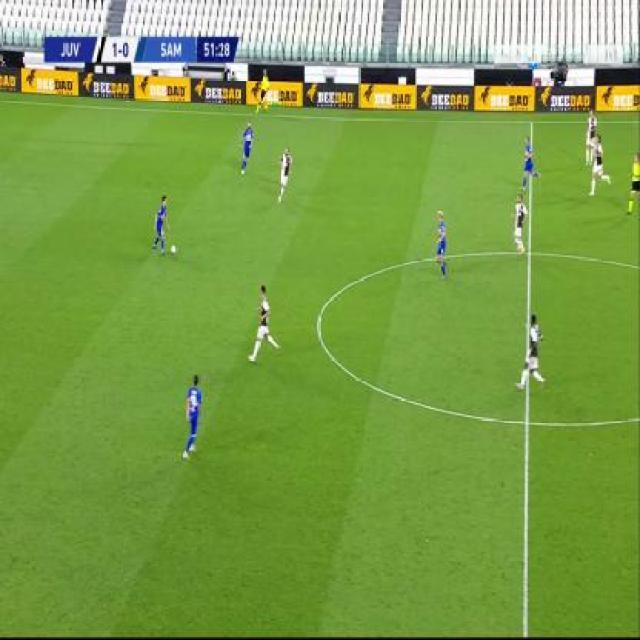ball: (169, 242, 177, 255)
player: (515, 312, 548, 394), (249, 282, 280, 367), (181, 370, 206, 461), (590, 131, 612, 196), (433, 206, 450, 279), (510, 193, 529, 256), (520, 132, 540, 189), (152, 192, 169, 257), (276, 146, 293, 203), (626, 148, 640, 216), (238, 119, 255, 175), (585, 107, 598, 166), (254, 69, 271, 114)
